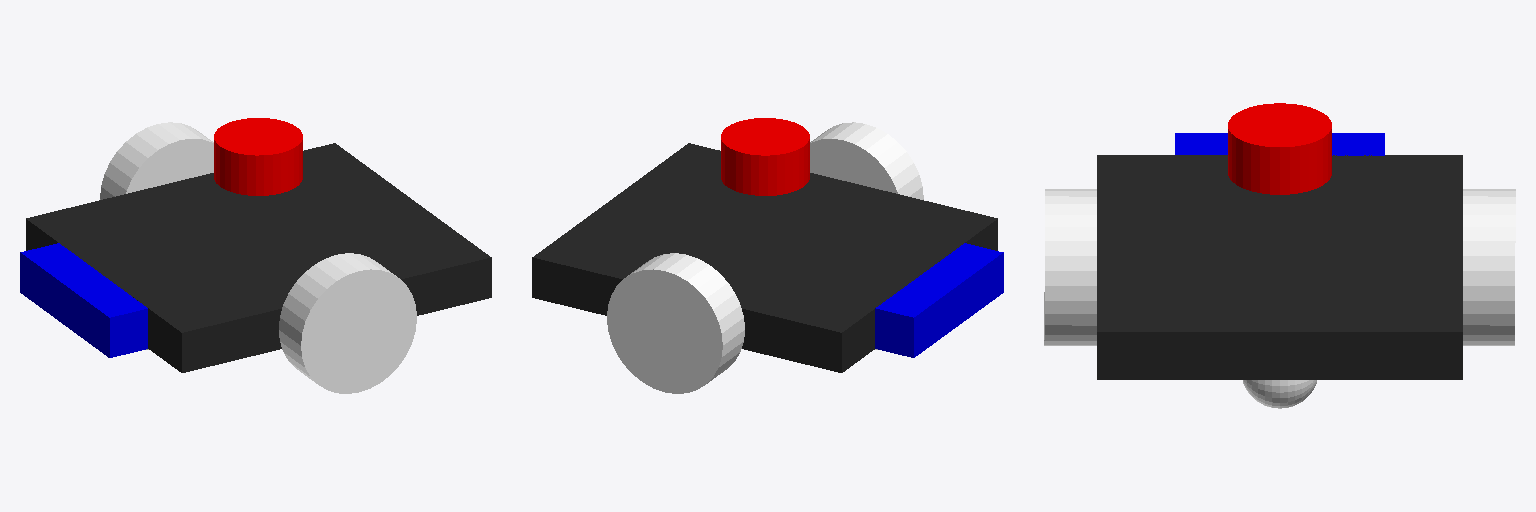
The robot description file, URDF, robot "rover":
<?xml version="1.0" ?>
  <robot name="rover">


  <link name="chassis">
    <visual>
      <geometry>
          <box size=".8 0.7 0.1"/>
      </geometry>
      <material name="gray">
        <color rgba=".2 .2 .2 1" />
      </material>
    </visual>
  <inertial>
            <mass value="2" />
            <inertia ixx="0.04" ixy="0.0" ixz="0" 
            iyy="0.17" iyz="0" izz="0.25" />
    </inertial>
    
    <collision>
      <geometry>
          <box size=".8 0.7 0.1"/>
      </geometry>
    </collision>
  </link>


  <link name="wheel_front_right">
    <inertial>
            <mass value="2" />
            <inertia ixx="1e-3" ixy="0.0" ixz="0" 
            iyy="1e-3" iyz="0" izz="1e-3" />
    </inertial>

    <visual>
      
      <geometry>
          <cylinder radius="0.15" length="0.1"/>
      </geometry>
      <material name="white">
        <color rgba="1 1 1 1"/>
      </material>
    </visual>

    <collision>
    
      <geometry>
          <cylinder radius="0.15" length="0.1"/>
      </geometry>
      <contact_coefficients mu="1" kp="1e+13" kd="1.0"/>
    </collision>
  </link>

  <joint name="wheel_front_right_joint" type="continuous">
    <origin xyz="0 0.4 0.0" rpy="1.57 0.0 0.0"/>
    <parent link="chassis"/>
    <child link="wheel_front_right"/>
    <axis xyz="0.0 0.0 1.0"/>
  </joint>

  <link name="wheel_front_left">
    <inertial>
            <mass value="2" />
            <inertia ixx="1e-3" ixy="0.0" ixz="0" 
            iyy="1e-3" iyz="0" izz="1e-3" />
    </inertial>

    <visual>
      
      <geometry>
          <cylinder radius="0.15" length="0.1"/>
      </geometry>
      <material name="white">
        <color rgba="1 1 1 1"/>
      </material>
    </visual>

    <collision>
      <geometry>
          <cylinder radius="0.15" length="0.1"/>
      </geometry>
      <contact_coefficients mu="1" kp="1e+13" kd="1.0"/>
    </collision>
  </link>

  <joint name="wheel_front_left_joint" type="continuous">
    <origin xyz="0 -0.4 0.0" rpy="1.57 0.0 0.0"/>
    <parent link="chassis"/>
    <child link="wheel_front_left"/>
    <axis xyz="0.0 0.0 1.0"/>

  </joint>

<!--
<link name="wheel_back_right">
    <inertial>
            <mass value="2" />
            <inertia ixx="1e-3" ixy="0.0" ixz="0" 
            iyy="1e-3" iyz="0" izz="1e-3" />
    </inertial>

    <visual>
      
      <geometry>
          <cylinder radius="0.15" length="0.1"/>
      </geometry>
      <material name="white">
        <color rgba="1 1 1 1"/>
      </material>
    </visual>

    <collision>
      <geometry>
          <cylinder radius="0.15" length="0.1"/>
      </geometry>
      <contact_coefficients mu="1" kp="1e+13" kd="1.0"/>
    </collision>
  </link>

  <joint name="wheel_back_right_joint" type="continuous">
    <origin xyz="-0.25 0.4 0.0" rpy="1.57 0.0 0.0"/>
    <parent link="chassis"/>
    <child link="wheel_back_right"/>
    <axis xyz="0.0 0.0 1.0"/>

  </joint>

  <link name="wheel_back_left">
    <inertial>
            <mass value="2" />
            <inertia ixx="1e-3" ixy="0.0" ixz="0" 
            iyy="1e-3" iyz="0" izz="1e-3" />
    </inertial>

    <visual>
      
      <geometry>
          <cylinder radius="0.15" length="0.1"/>
      </geometry>
      <material name="white">
        <color rgba="1 1 1 1"/>
      </material>
    </visual>

    <collision>
      <geometry>
          <cylinder radius="0.15" length="0.1"/>
      </geometry>
      <contact_coefficients mu="1" kp="1e+13" kd="1.0"/>
    </collision>
  </link>

  <joint name="wheel_back_left_joint" type="continuous">
    <origin xyz="-0.25 -0.4 0.0" rpy="1.57 0.0 0.0"/>
    <parent link="chassis"/>
    <child link="wheel_back_left"/>
    <axis xyz="0.0 0.0 1.0"/>

  </joint>
  -->

  <link name="front_castor_wheel">
    <inertial>
            <mass value="2" />
            <inertia ixx="1e-3" ixy="0.0" ixz="0" 
            iyy="1e-3" iyz="0" izz="1e-3" />
    </inertial>

    <visual>
      
      <geometry>
          <sphere radius="0.075"/>
      </geometry>
      <material name="white">
        <color rgba="1 1 1 1"/>
      </material>
    </visual>

    <collision>
      <geometry>
          <sphere radius="0.075"/>
      </geometry>
      <contact_coefficients mu="1" kp="1e+13" kd="1.0"/>
    </collision>
  </link>

  <joint name="castor_wheel_joint" type="fixed">
    <origin xyz="-0.3 0 -0.075" rpy="1.57 0.0 0.0"/>
    <parent link="chassis"/>
    <child link="front_castor_wheel"/>
    <axis xyz="0.0 0.0 1.0"/>

  </joint>

  <link name="back_castor_wheel">
    <inertial>
            <mass value="2" />
            <inertia ixx="1e-3" ixy="0.0" ixz="0" 
            iyy="1e-3" iyz="0" izz="1e-3" />
    </inertial>

    <visual>
      
      <geometry>
          <sphere radius="0.075"/>
      </geometry>
      <material name="white">
        <color rgba="1 1 1 1"/>
      </material>
    </visual>

    <collision>
      <geometry>
          <sphere radius="0.075"/>
      </geometry>
      <contact_coefficients mu="1" kp="1e+13" kd="1.0"/>
    </collision>
  </link>

  <joint name="castor_wheel_joint_2" type="fixed">
    <origin xyz="0.3 0 -0.075" rpy="1.57 0.0 0.0"/>
    <parent link="chassis"/>
    <child link="back_castor_wheel"/>
    <axis xyz="0.0 0.0 1.0"/>

  </joint>


  <link name="camera">
    <inertial>
            <mass value="0.5" />
            <inertia ixx="0.01" ixy="0.0" ixz="0" 
            iyy="0.01" iyz="0" izz="0.01" />
    </inertial>

    <visual>
      
      <geometry>
        <box size="0.1 0.4 0.1"/>
      </geometry>
      <material name="blue">
        <color rgba="0 0 1 1"/>
      </material>
    </visual>

    <collision>
      <geometry>
          <box size="0.1 0.5 0.2"/>
      </geometry>
    </collision>
  </link>

  <joint name="camera_joint" type="fixed">
    <origin xyz="-0.45 0 0" rpy="0 0.0 3.14"/>
    <parent link="chassis"/>
    <child link="camera"/>
    <axis xyz="0.0 0.0 1.0"/>

  </joint>

  <link name="lidar">
    <inertial>
            <mass value="0.5" />
            <inertia ixx="0.01" ixy="0.0" ixz="0" 
            iyy="0.01" iyz="0" izz="0.01" />
    </inertial>

    <visual>
      <geometry>
        <cylinder radius="0.1" length="0.1"/>
      </geometry>
      <material name="red">
        <color rgba="1 0 0  1"/>
      </material>
    </visual>

    <collision>
      <geometry>
        <cylinder radius="0.1" length="0.1"/>
      </geometry>
    </collision>
  </link>

  <joint name="lidar_joint" type="fixed">
    <origin xyz="0 0 0.25" rpy="0 0.0 1.57"/>
    <parent link="chassis"/>
    <child link="lidar"/>
    <axis xyz="0.0 0.0 1.0"/>
  </joint>  

<!-- DIFFENERNTIAL DRIVEEEEEEEEEEEEE -->

  <gazebo>
<plugin name='diff_drive' filename='libgazebo_ros_diff_drive.so'>
        <left_joint>wheel_front_left_joint</left_joint>
        <right_joint>wheel_front_right_joint</right_joint>
        <wheel_separation>0.8</wheel_separation>
        <wheel_diameter>0.3</wheel_diameter>
        <max_wheel_torque>20</max_wheel_torque>
        <max_wheel_acceleration>1.0</max_wheel_acceleration>
        <publish_odom>true</publish_odom>
        <publish_odom_tf>true</publish_odom_tf>
        <publish_wheel_tf>true</publish_wheel_tf>

        <odometry_frame>base_footprint</odometry_frame>
        <robot_base_frame>chassis</robot_base_frame>

      </plugin>
</gazebo>




<!-- CAMERAAAAAAAAAAAAAAAAAAAAAAAAAAAAAA -->
      <!--<gazebo reference="camera">
    <sensor type="camera" name="camera1">
      <update_rate>30.0</update_rate>
      <camera name="head">
        <horizontal_fov>1.3962634</horizontal_fov>
        <image>
          <width>800</width>
          <height>800</height>
          <format>R8G8B8</format>
        </image>
        <clip>
          <near>0.02</near>
          <far>300</far>
        </clip>
        <noise>
          <type>gaussian</type>
          <mean>0.0</mean>
          <stddev>0.007</stddev>
        </noise>
      </camera>
      <plugin name="camera_controller" filename="libgazebo_ros_camera.so">
        <alwaysOn>true</alwaysOn>
        <updateRate>0.0</updateRate>
        <cameraName>/camera</cameraName>
        <imageTopicName>image_raw</imageTopicName>
        <cameraInfoTopicName>camera_info</cameraInfoTopicName>
        <frameName>camera_link</frameName>
        <hackBaseline>0.07</hackBaseline>
      </plugin>
    </sensor>
    <material>Gazebo/Blue</material>
  </gazebo>-->
  <plugin name="camera_plugin" filename="libgazebo_ros_openni_kinect.so">
          <baseline>0.2</baseline>
          <alwaysOn>true</alwaysOn>
          <!-- Keep this zero, update_rate in the parent <sensor> tag
            will control the frame rate. -->
          <updateRate>0.0</updateRate>
          <cameraName>camera_ir</cameraName>
          <imageTopicName>/camera/color/image_raw</imageTopicName>
          <cameraInfoTopicName>/camera/color/camera_info</cameraInfoTopicName>
          <depthImageTopicName>/camera/depth/image_raw</depthImageTopicName>
          <depthImageCameraInfoTopicName>/camera/depth/camera_info</depthImageCameraInfoTopicName>
          <pointCloudTopicName>/camera/depth/points</pointCloudTopicName>
          <frameName>camera_link</frameName>
          <pointCloudCutoff>0.5</pointCloudCutoff>
          <pointCloudCutoffMax>3.0</pointCloudCutoffMax>
          <distortionK1>0</distortionK1>
          <distortionK2>0</distortionK2>
          <distortionK3>0</distortionK3>
          <distortionT1>0</distortionT1>
          <distortionT2>0</distortionT2>
          <CxPrime>0</CxPrime>
          <Cx>0</Cx>
          <Cy>0</Cy>
          <focalLength>0</focalLength>
          <hackBaseline>0</hackBaseline>
        </plugin>
        
<!-- LIDAAAAAAAAAAAAAAAAAAAAAAAAAAR -->
   <gazebo reference="lidar">
    <sensor name="gazebo_lidar" type="ray">
      <visualize>true</visualize>
      <update_rate>12.0</update_rate>
      <plugin filename="libgazebo_ros_ray_sensor.so" name="gazebo_lidar">
      <ros>
        <remapping>~/out:=scan</remapping>
      </ros>
      
      <output_type>sensor_msgs/LaserScan</output_type>
      <frame_name>lidar</frame_name>
      </plugin>
      <ray>
        <scan>
          <horizontal>
            <samples>720</samples>
            <resolution>1</resolution>
            <min_angle>0.00</min_angle>
            <max_angle>6.28</max_angle>
          </horizontal>
        </scan>
        <range>
          <min>0.120</min>
          <max>3.5</max>
          <resolution>0.015</resolution>
        </range>
        <noise>
          <type>gaussian</type>
          <mean>0.0</mean>
          <stddev>0.01</stddev>
        </noise>
      </ray>
    </sensor>
    <material>Gazebo/DarkGrey</material>
  </gazebo> 
  <gazebo reference="wheel_front_right">
    <material>Gazebo/Purple</material>
  </gazebo>
  <gazebo reference="wheel_front_left">
    <material>Gazebo/Purple</material>
  </gazebo>
  <!--
  <gazebo reference="wheel_back_right">
    <material>Gazebo/Purple</material>
  </gazebo>
  <gazebo reference="wheel_back_left">
    <material>Gazebo/Purple</material>
  </gazebo>
  -->
  <gazebo reference="chassis">
    <material>Gazebo/Black</material>
  </gazebo>
  <gazebo reference="camera">
    <material>Gazebo/White</material>
  </gazebo>
  <gazebo reference="lidar">
    <material>Gazebo/Purple</material>
  </gazebo>

</robot>

--- Facts derived from the render (not from the file) ---
Views: 3 orthographic renders of the robot side by side, from view 1: azimuth 30°, elevation 25°; view 2: azimuth 150°, elevation 25°; view 3: azimuth 270°, elevation 25°.
Model rover with 7 links and 6 joints (2 continuous, 4 fixed), rooted at chassis, posed every joint at zero.
Visible links, largest first — view 1: chassis, wheel_front_left, camera, lidar, wheel_front_right; view 2: chassis, wheel_front_right, camera, lidar, wheel_front_left; view 3: chassis, lidar, wheel_front_right, wheel_front_left, camera, back_castor_wheel.
Boxes of the visible links, box(x1,y1,x2,y2) form: chassis: box(26, 143, 491, 372); wheel_front_left: box(279, 253, 416, 393); camera: box(20, 243, 147, 357); lidar: box(214, 118, 302, 195); wheel_front_right: box(100, 122, 213, 199); chassis: box(532, 143, 997, 372); wheel_front_right: box(607, 253, 744, 393); camera: box(875, 243, 1003, 357); lidar: box(721, 118, 809, 195); wheel_front_left: box(810, 122, 923, 199); chassis: box(1097, 155, 1462, 379); lidar: box(1228, 103, 1331, 194); wheel_front_right: box(1463, 189, 1515, 345); wheel_front_left: box(1044, 189, 1096, 345); camera: box(1175, 133, 1384, 155); back_castor_wheel: box(1243, 380, 1316, 408).
Size in the robot's own frame: 0.9003 by 0.9002 by 0.45 metres.
Geometry: primitives only (box / cylinder / sphere), no mesh files.
